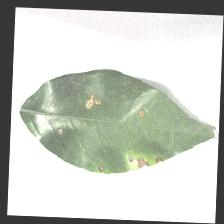canker: (60, 89, 168, 172)
